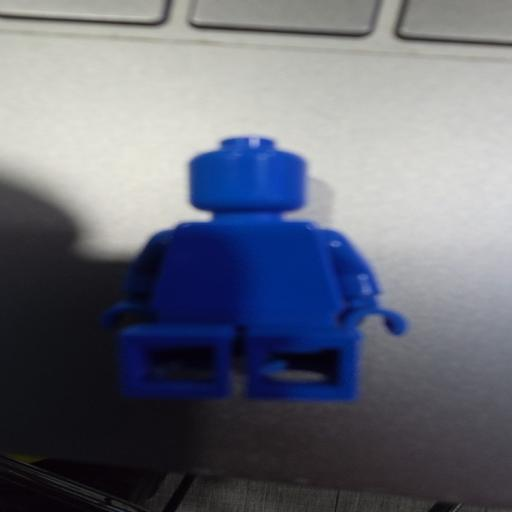Blue: (103, 137, 406, 401)
